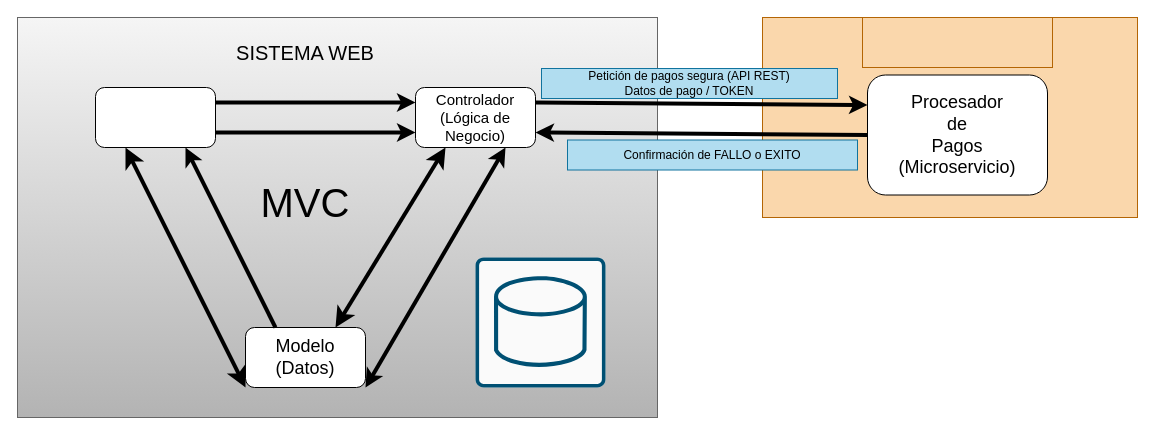
Some shapes in this 1155 by 435 pixel diagram are drawn without their labels. The shapes that lost their labels are listed below. From the top down, each one's centre as x and y in pixels, then its label:
(x=957, y=42): Microservicio de pagos independiente
(x=155, y=117): Vista (UI)
(x=540, y=322): Base de Datos
